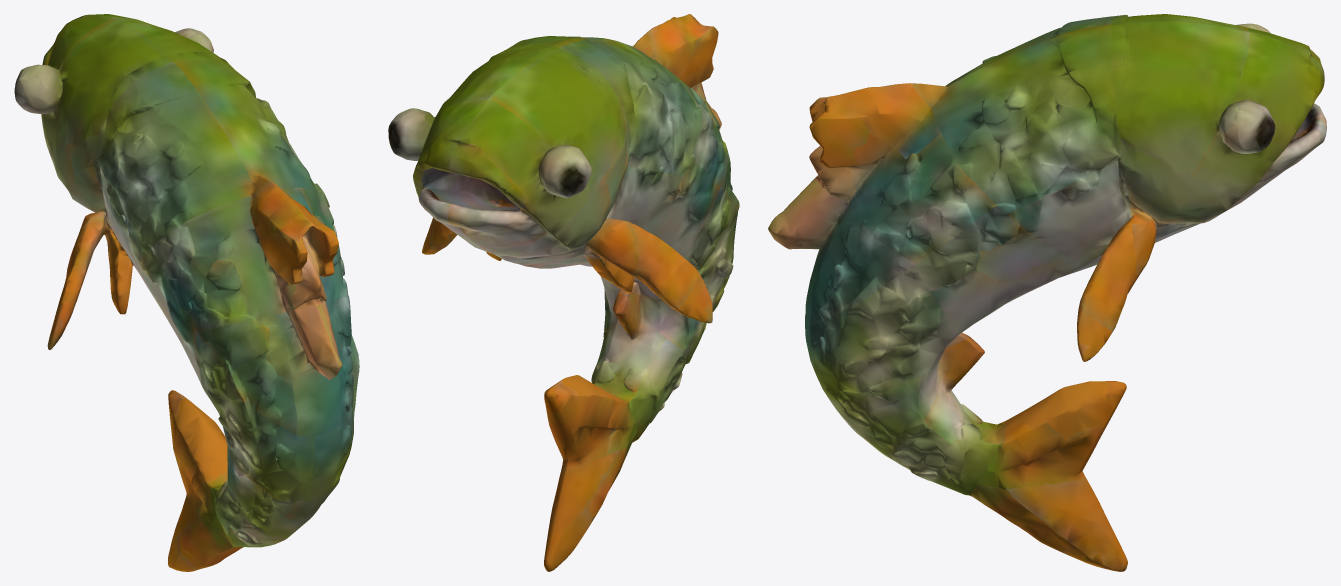
Rendered from leaping_fish.glb.
The picture shows the model from 3 angles, left to right: view 1: azimuth 30°, elevation 25°; view 2: azimuth 150°, elevation 25°; view 3: azimuth 270°, elevation 25°; orthographic projection. The views are drawn at different scales.
Parts seen in each view (by area): view 1: tripo_node_f1366419-b02b-4ffb-8d11-aa533e28e85d; view 2: tripo_node_f1366419-b02b-4ffb-8d11-aa533e28e85d; view 3: tripo_node_f1366419-b02b-4ffb-8d11-aa533e28e85d.
Part boxes in pixels (x1,y1,x2,y2): tripo_node_f1366419-b02b-4ffb-8d11-aa533e28e85d: (14,14,359,571); tripo_node_f1366419-b02b-4ffb-8d11-aa533e28e85d: (388,14,739,571); tripo_node_f1366419-b02b-4ffb-8d11-aa533e28e85d: (768,14,1326,571).
Size of the model in its own units: 0.5742 by 0.9996 by 0.9202.
1 material, 1 textured.
